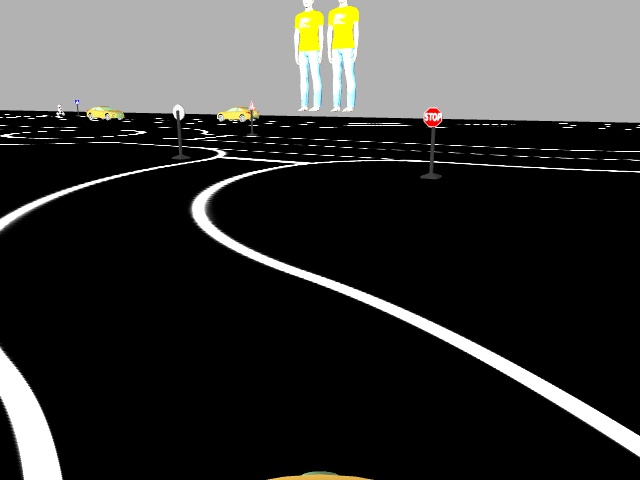Stop: (422, 105, 443, 126)
